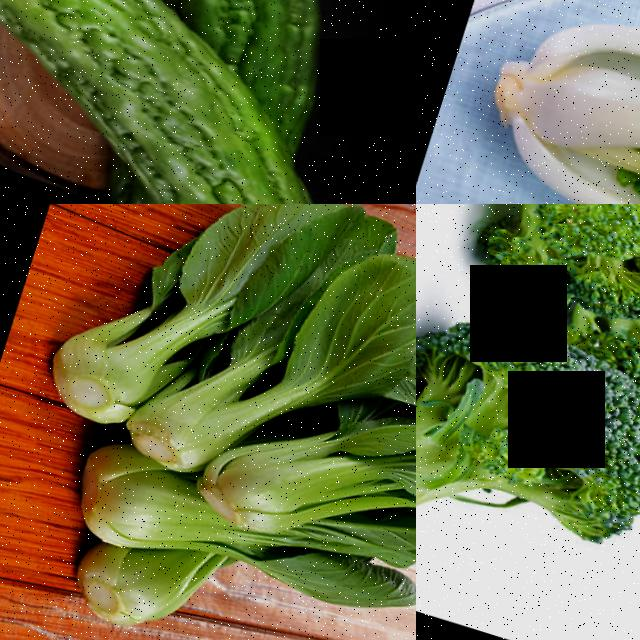bitter gourd: (78, 101, 393, 204), (142, 0, 360, 43)
bok choy: (14, 204, 272, 419), (185, 283, 416, 521), (235, 382, 416, 562), (488, 0, 640, 204), (63, 467, 269, 578), (65, 542, 242, 640)
broccoli: (416, 297, 640, 617), (416, 204, 640, 356)
